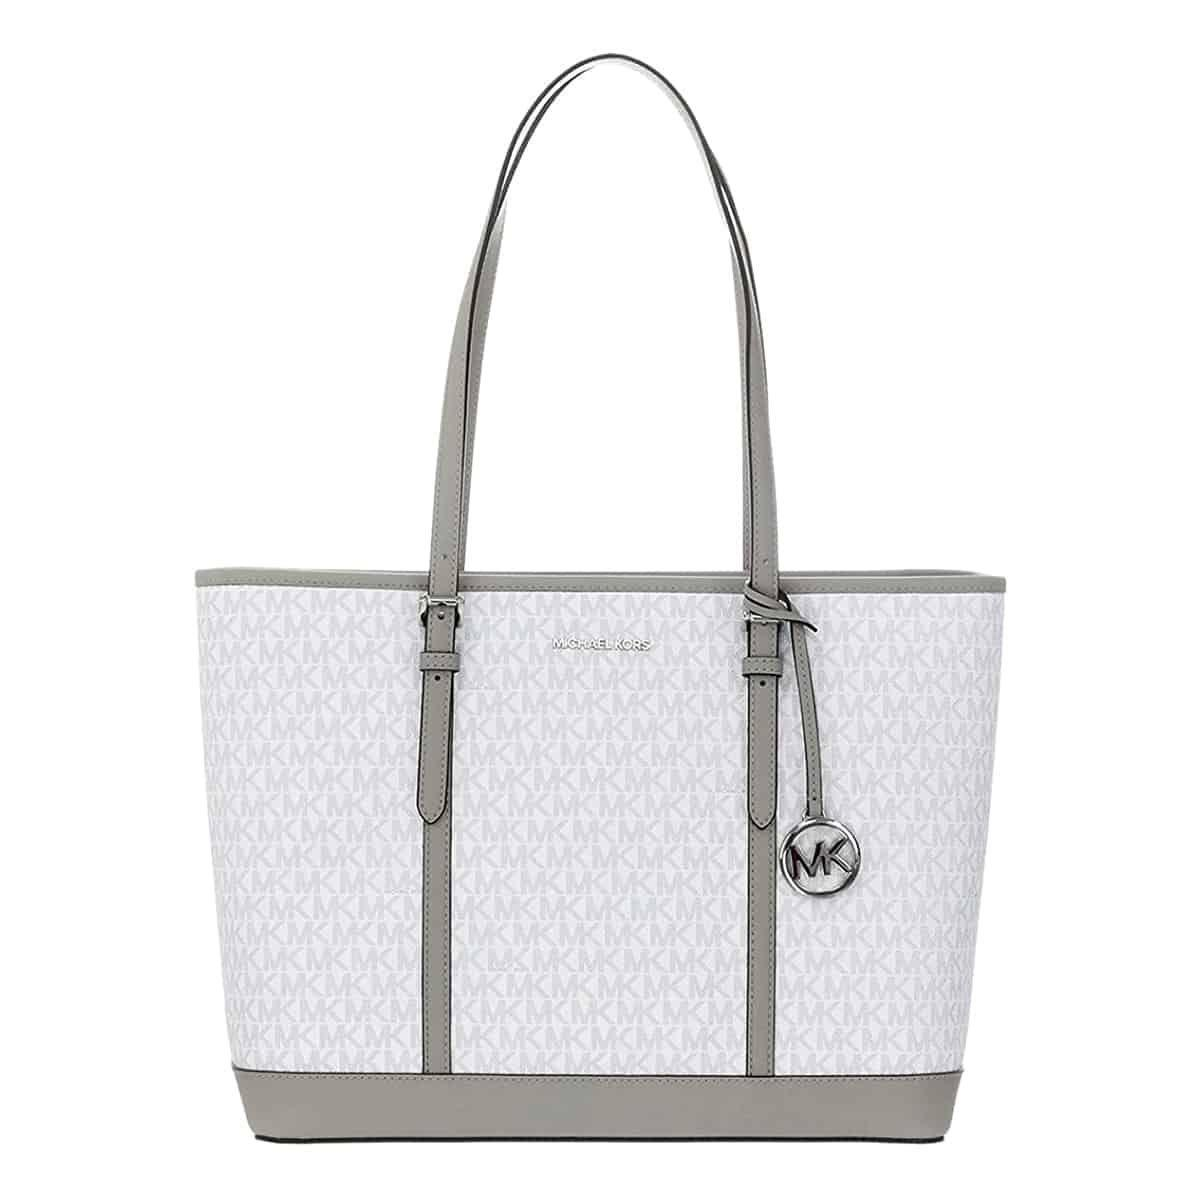MICHAEL-KORS: (553, 636, 649, 651)
